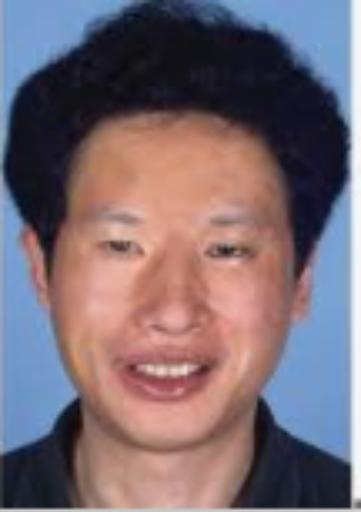left_eye: (205, 243, 256, 270)
left_lip_corner: (198, 359, 219, 381)
right_eye: (94, 237, 148, 263)
right_lip_corner: (104, 351, 135, 379)
